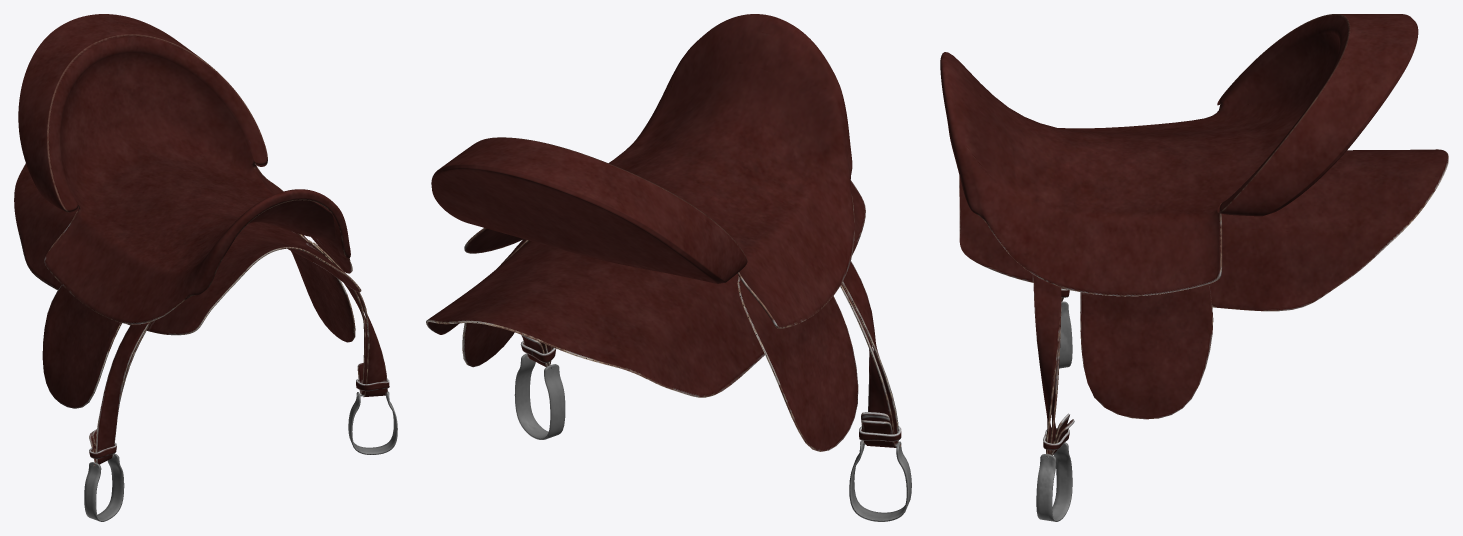
File: leather_saddle.glb
3 views of the same model, side by side, from view 1: azimuth 30°, elevation 25°; view 2: azimuth 150°, elevation 25°; view 3: azimuth 270°, elevation 25° (orthographic). The views are drawn at different scales.
Visible parts, largest first — view 1: saddle.001; view 2: saddle.001; view 3: saddle.001.
Boxes of the visible parts, x1,y1,x2,y2 form: saddle.001: (14,14,397,521); saddle.001: (426,14,911,521); saddle.001: (940,14,1448,521).
Bounding box in the file's own units: 1.96 × 2.14 × 2.39.
Materials: 1 (1 with a texture image).
